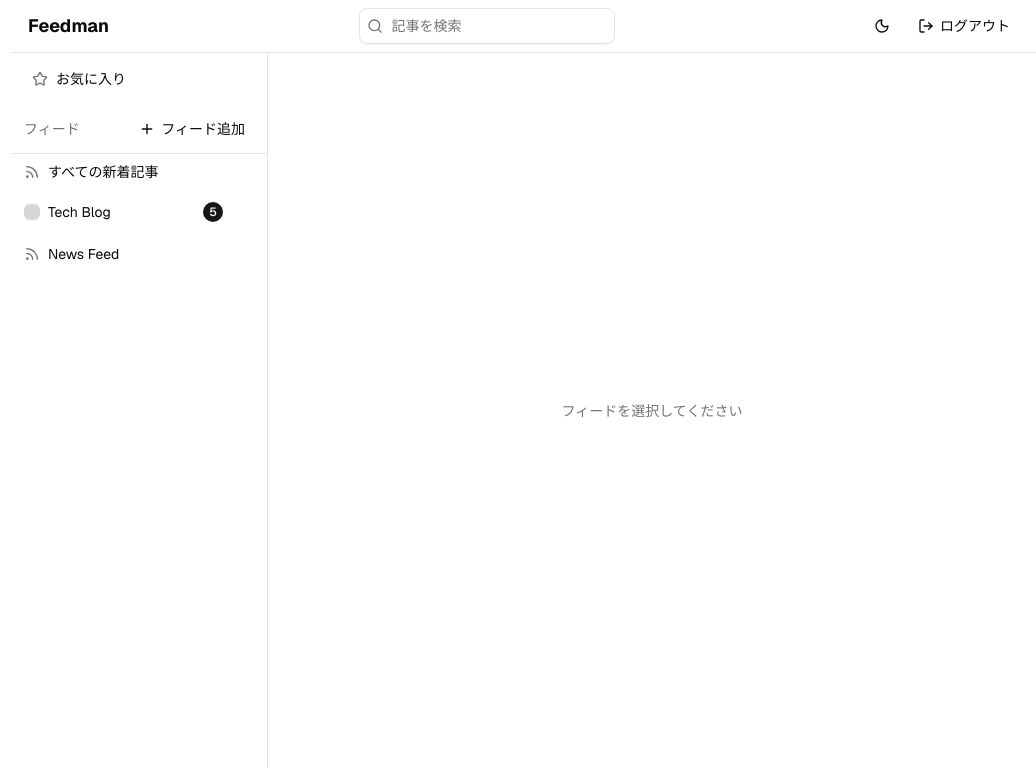
Test: AppShell コンポーネント › 「お気に入り」項目クリック → 右ペインが StarredItemList に切替 → フィード行クリック → 右ペインが ItemList に戻ること（Req 1.3 / 1.4 / 2.1 / 5.3）
Expected: the text "フィードを選択してください" is shown, [562,402,742,420]
// 「お気に入り」項目をクリック → 右ペインが StarredItemList に切替
Click the button with test id "starred-nav-item" at (79, 79), box [20,61,138,97]
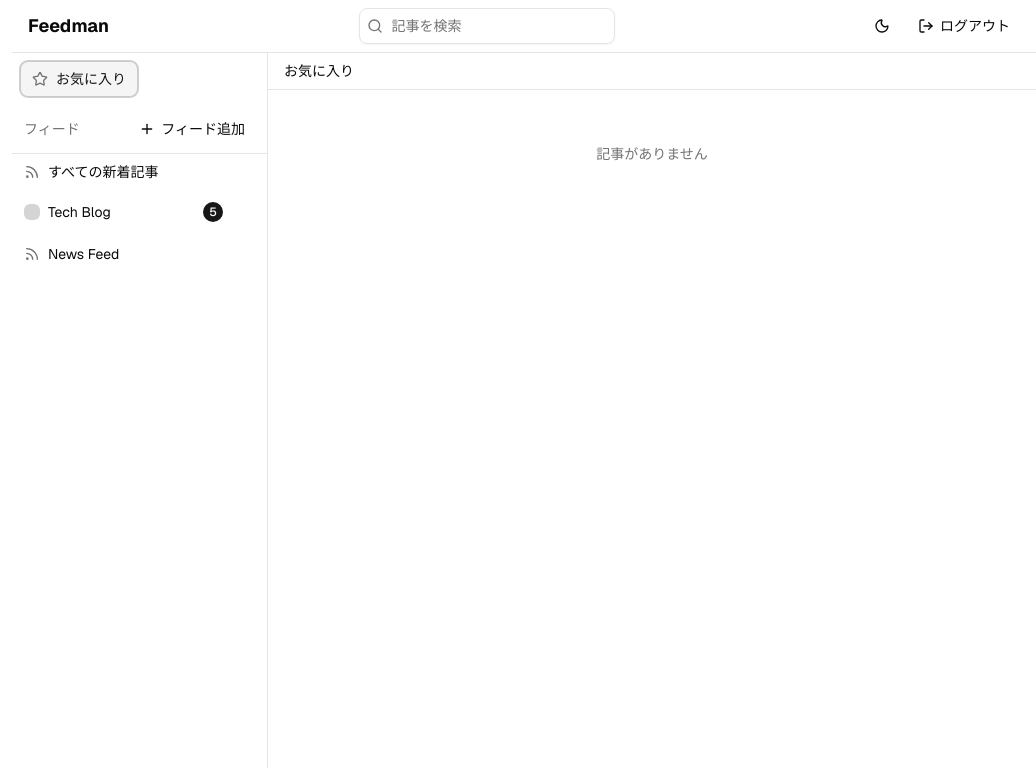
Expected: the element with test id "starred-item-list" is shown, [268,53,1035,163]
Expected: the heading with test id "starred-item-list-title" reads "お気に入り", [284,62,354,80]
Expected: the text "フィードを選択してください" is gone
// フィード行（Tech Blog）をクリック → 右ペインが ItemList に戻る（Req 1.4 / 5.3）
Click the text "Tech Blog" at (79, 212), box [48,203,111,221]
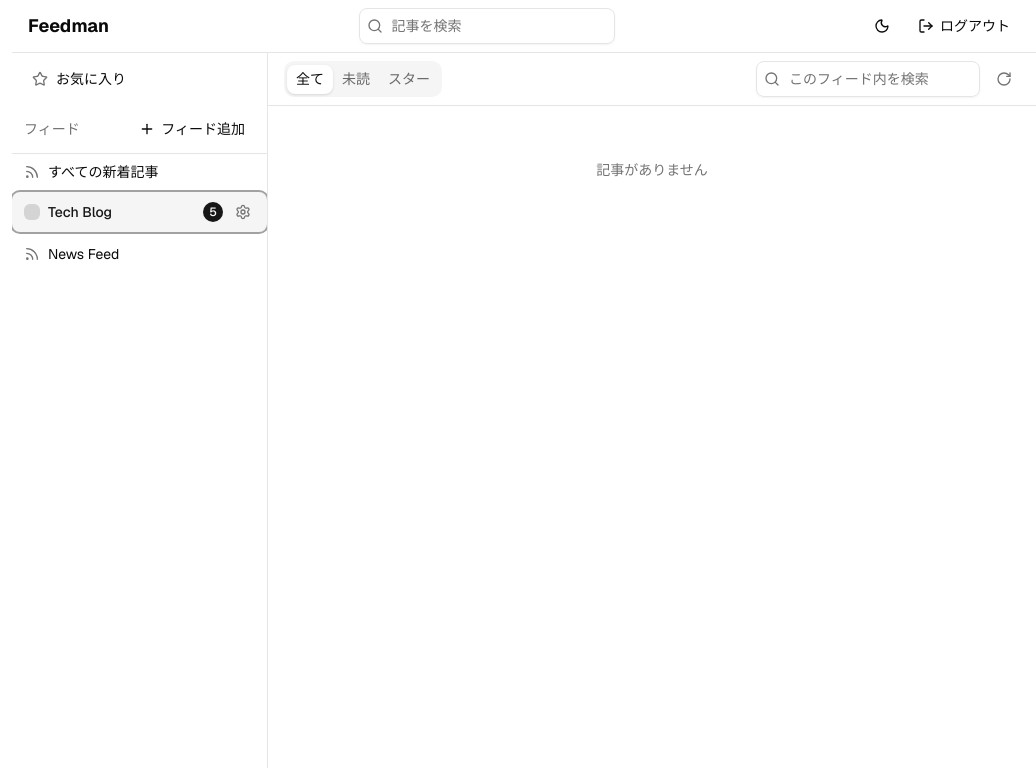
Expected: the tab "全て" is shown, [287,64,333,94]
Expected: the element with test id "starred-item-list" is gone
